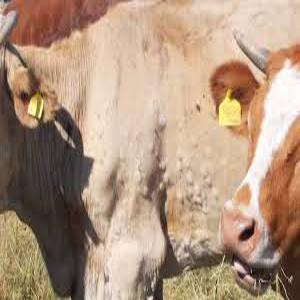lumpy skin diesease: (208, 26, 299, 299)
